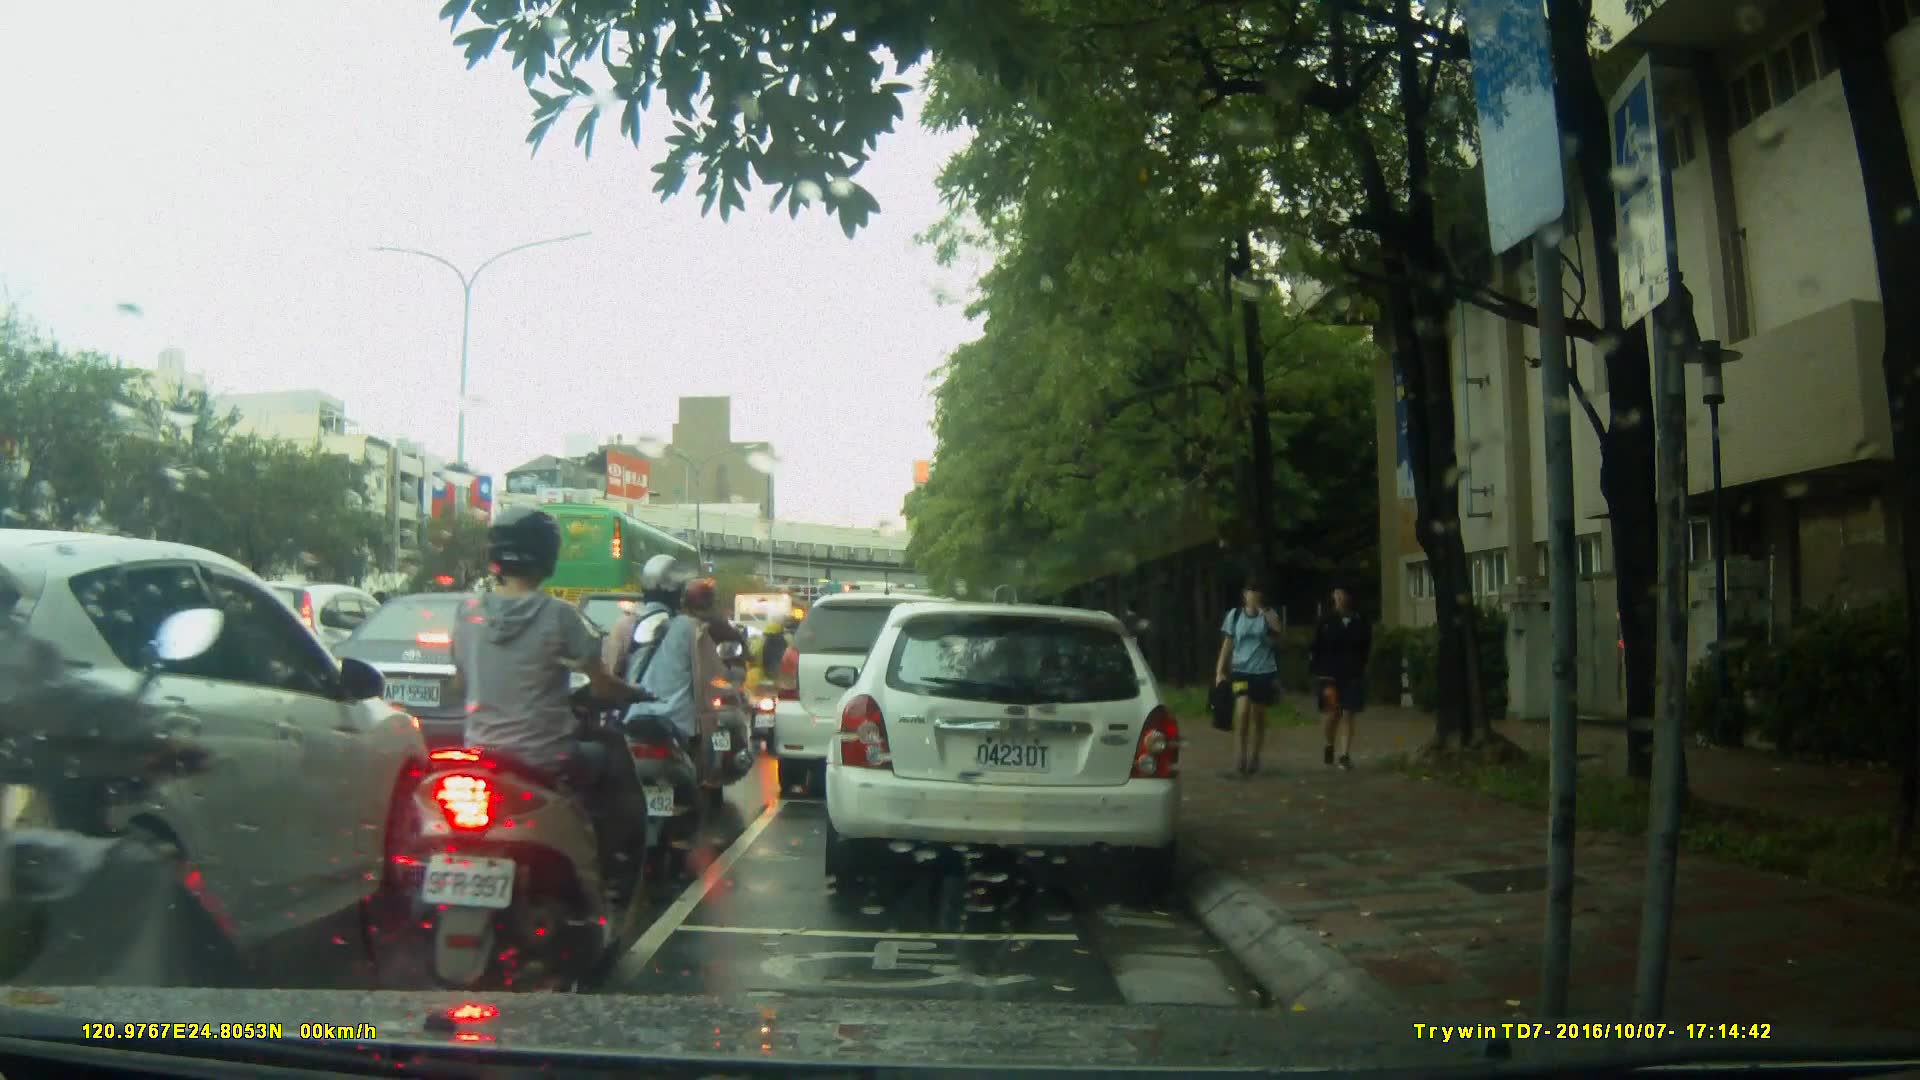pedestrian: (1198, 575, 1307, 781), (1308, 570, 1387, 776), (1122, 596, 1156, 690)
rider: (1, 412, 262, 1080), (421, 501, 644, 980), (604, 553, 722, 860), (673, 578, 758, 788), (751, 611, 807, 749)
vehicle: (1, 528, 447, 988), (831, 592, 1196, 897), (313, 590, 633, 804), (770, 591, 999, 803), (495, 500, 707, 636)
